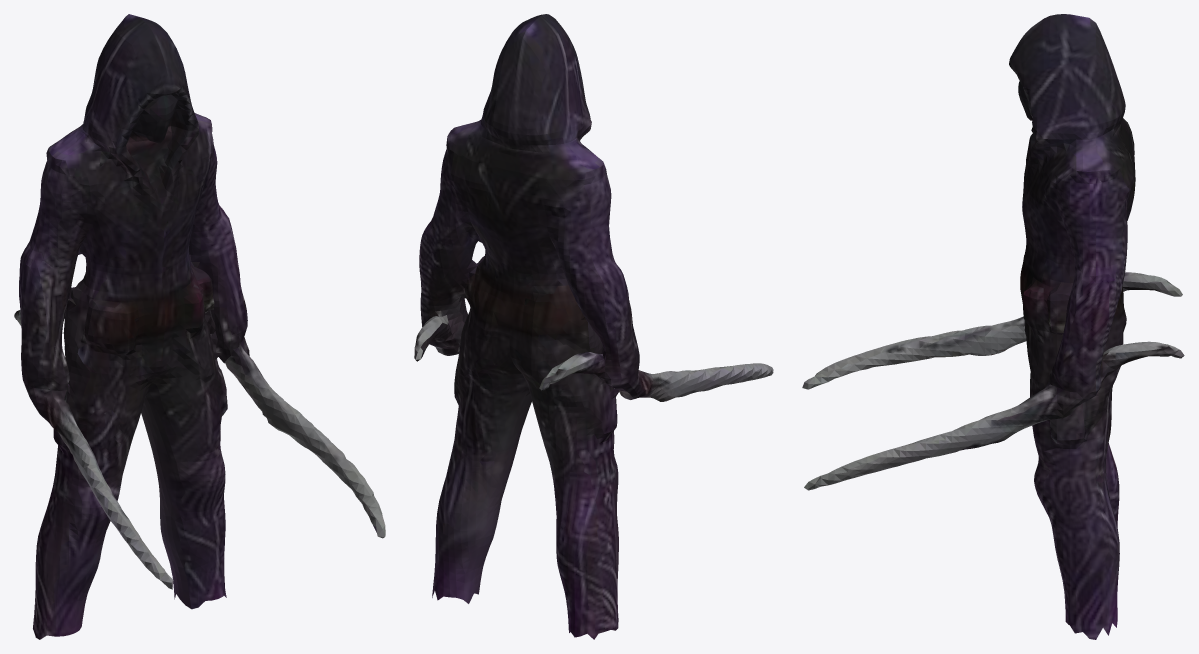
Rendered from rogue_preview.glb.
3 views of the same model, side by side, from view 1: azimuth 30°, elevation 25°; view 2: azimuth 150°, elevation 25°; view 3: azimuth 270°, elevation 25° (orthographic). The views are drawn at different scales.
Visible parts, largest first — view 1: preview_mesh; view 2: preview_mesh; view 3: preview_mesh.
Boxes of the visible parts, bbox=[...] form: preview_mesh: bbox=[14, 14, 385, 639]; preview_mesh: bbox=[414, 14, 773, 639]; preview_mesh: bbox=[802, 14, 1184, 639].
Bounding box in the file's own units: 6709 × 16383 × 9748.
Materials: 1 (1 with a texture image).
